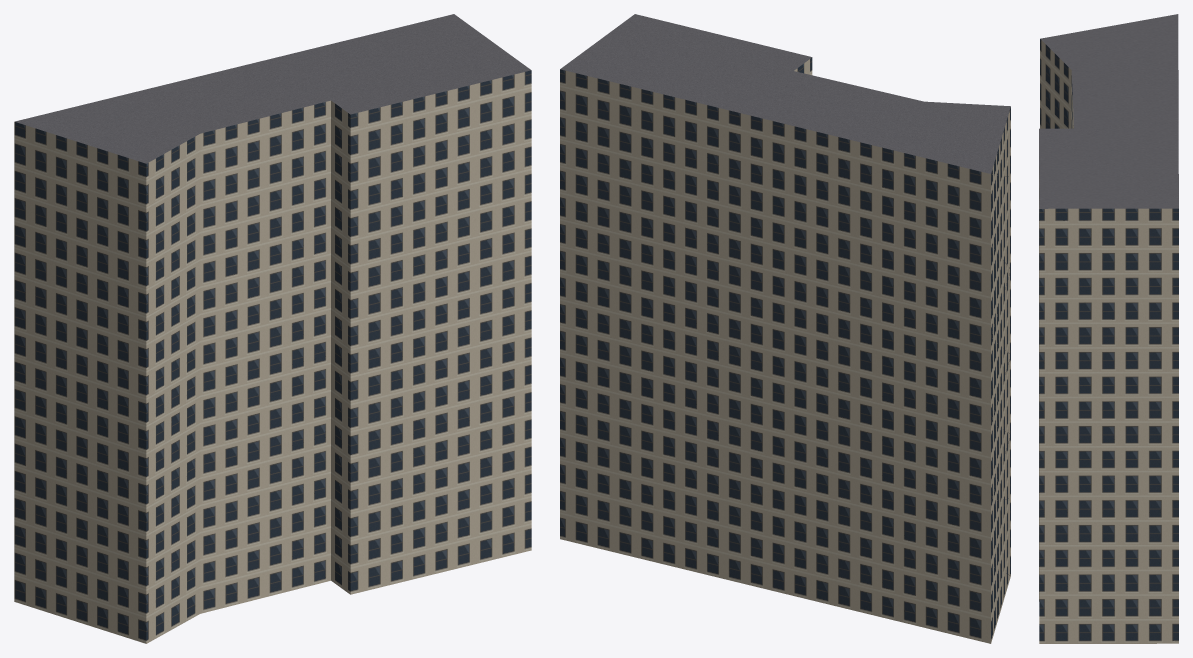
Rendered from bin1016239.glb.
3 renders of one model, left to right at view 1: azimuth 30°, elevation 25°; view 2: azimuth 150°, elevation 25°; view 3: azimuth 270°, elevation 25°, orthographic. The views are drawn at different scales.
Visible parts, largest first — view 1: c17, c16, c15, c11, c5, c4, c14, c12, c3, c2, c0, c10 (+13 smaller); view 2: c29, c28, c27, c26, c24, c11, c25, c5, c23, c4, c17, c10 (+18 smaller); view 3: c17, c16, c15, c14, c12, c13, c23, c29, c11, c5.
Boxes of the visible parts, box(x1,y1,x2,y2) form: c17: box(362, 14, 531, 183); c16: box(363, 143, 531, 278); c15: box(363, 237, 531, 365); c11: box(167, 62, 363, 195); c5: box(14, 103, 163, 236); c4: box(14, 194, 163, 330); c14: box(363, 324, 531, 446); c12: box(363, 471, 531, 591); c3: box(14, 288, 163, 417); c2: box(14, 376, 163, 498); c0: box(14, 522, 163, 643); c10: box(242, 173, 363, 289); c29: box(581, 56, 792, 186); c28: box(581, 145, 751, 278); c27: box(581, 238, 751, 364); c26: box(581, 323, 751, 443); c24: box(581, 466, 751, 585); c11: box(751, 54, 882, 208); c25: box(581, 402, 751, 507); c5: box(915, 104, 1010, 244); c23: box(841, 92, 982, 226); c4: box(915, 178, 1010, 337); c17: box(560, 14, 799, 145); c10: box(751, 187, 841, 300); c17: box(1039, 134, 1178, 274); c16: box(1039, 232, 1178, 360); c15: box(1039, 318, 1178, 439); c14: box(1039, 397, 1178, 512); c12: box(1039, 530, 1178, 643); c13: box(1039, 470, 1178, 571); c23: box(1050, 48, 1178, 128); c29: box(1047, 122, 1178, 198); c11: box(1039, 81, 1178, 135); c5: box(1040, 14, 1178, 113).
Size of the model in its own units: 59.16 by 61.61 by 17.95.
3 materials, 3 textured.
